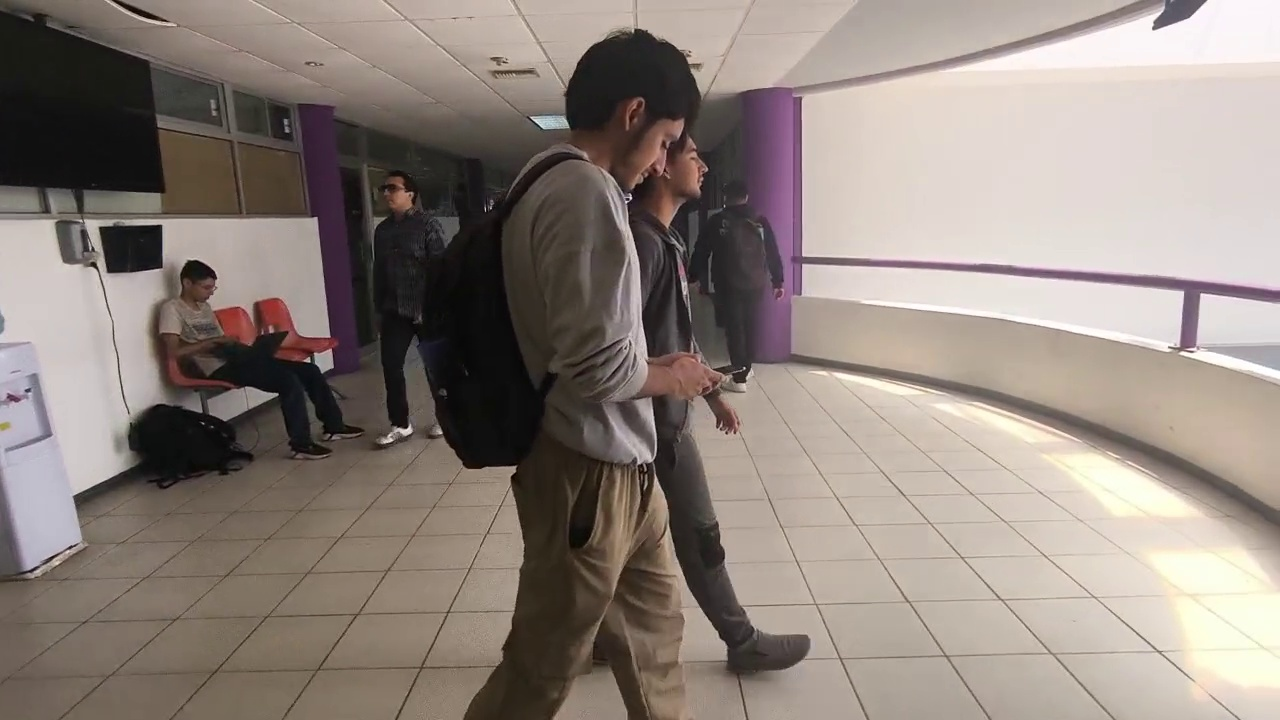mixto2: (705, 358, 753, 382)
